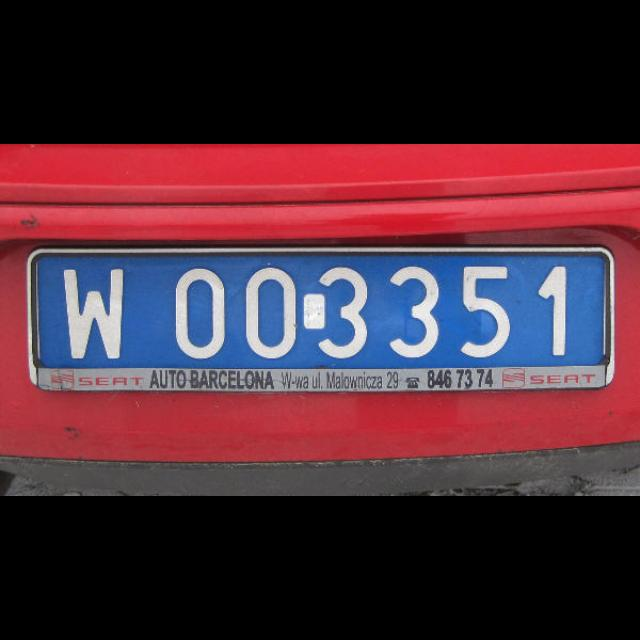pl_license_plate: (37, 255, 605, 363)
